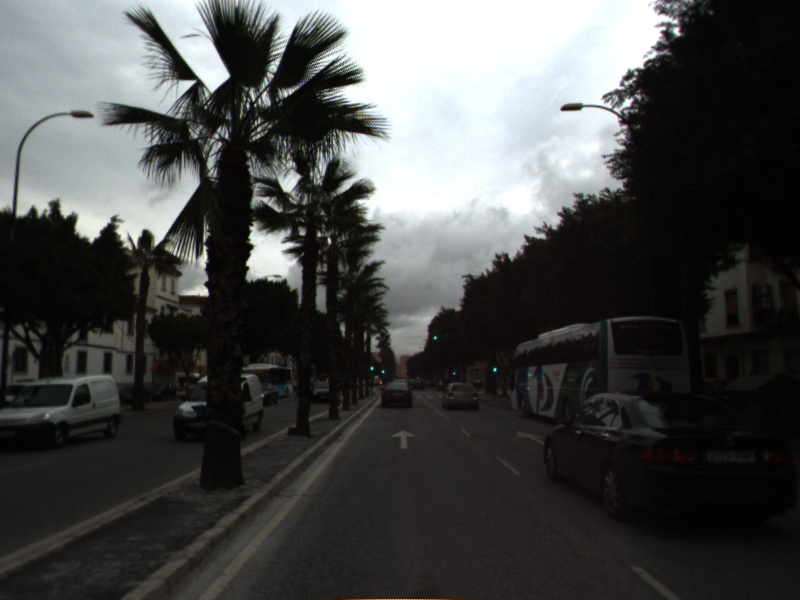STRAIGHT: (389, 427, 419, 451), (514, 428, 546, 445)
